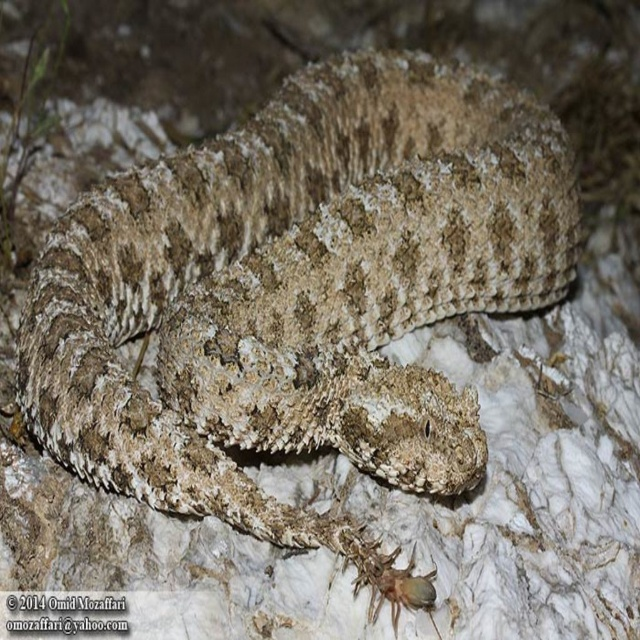Snake: (12, 45, 587, 577)
